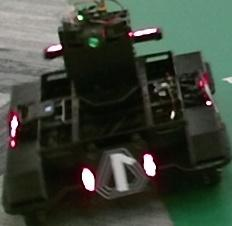armor_1: (82, 153, 157, 192)
front_1: (94, 146, 149, 200)
